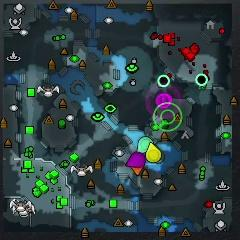Other: (155, 93, 172, 108)
p2: (138, 136, 153, 153)
p2Clone: (195, 73, 208, 86), (158, 74, 170, 87)
p3: (126, 151, 147, 168)
p4: (146, 142, 161, 163)
p5: (130, 166, 144, 175)
